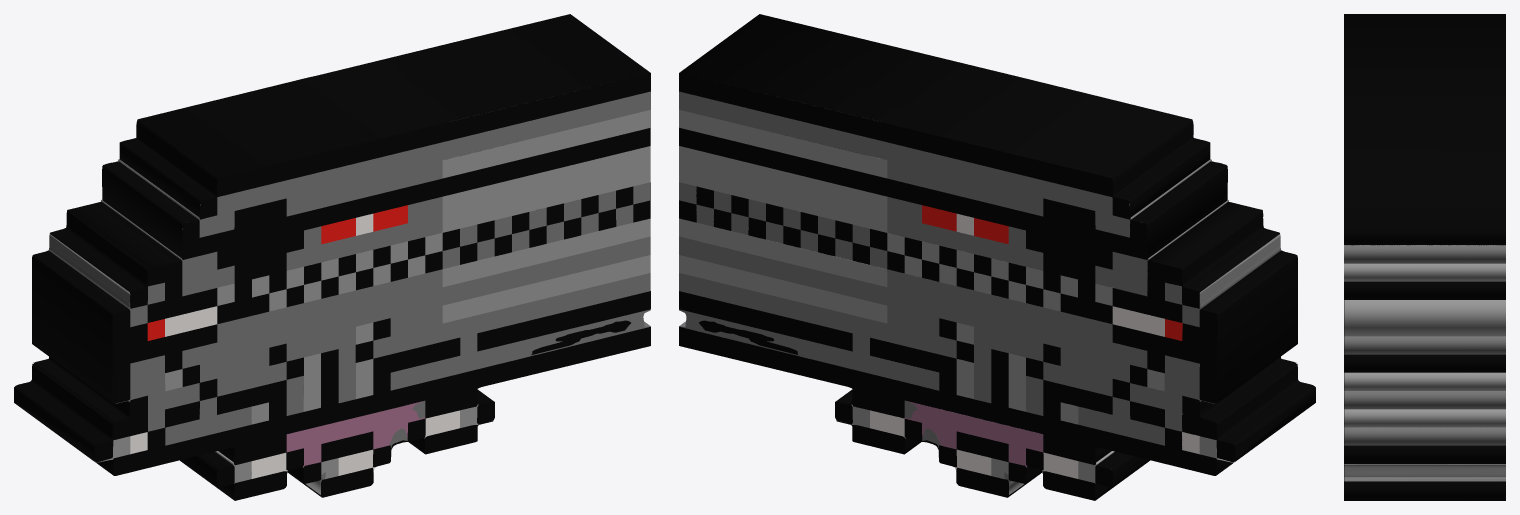
The model's file is Toadz_4126.glb.
The picture shows the model from 3 angles, left to right: view 1: azimuth 30°, elevation 25°; view 2: azimuth 150°, elevation 25°; view 3: azimuth 270°, elevation 25°; orthographic projection.
Visible parts, largest first — view 1: Curve; view 2: Curve; view 3: Curve.
Boxes of the visible parts, <box> form: Curve: <box>14,14,650,500</box>; Curve: <box>679,14,1315,500</box>; Curve: <box>1344,14,1505,500</box>.
Size of the model in its own units: 3.99 by 2.37 by 1.
